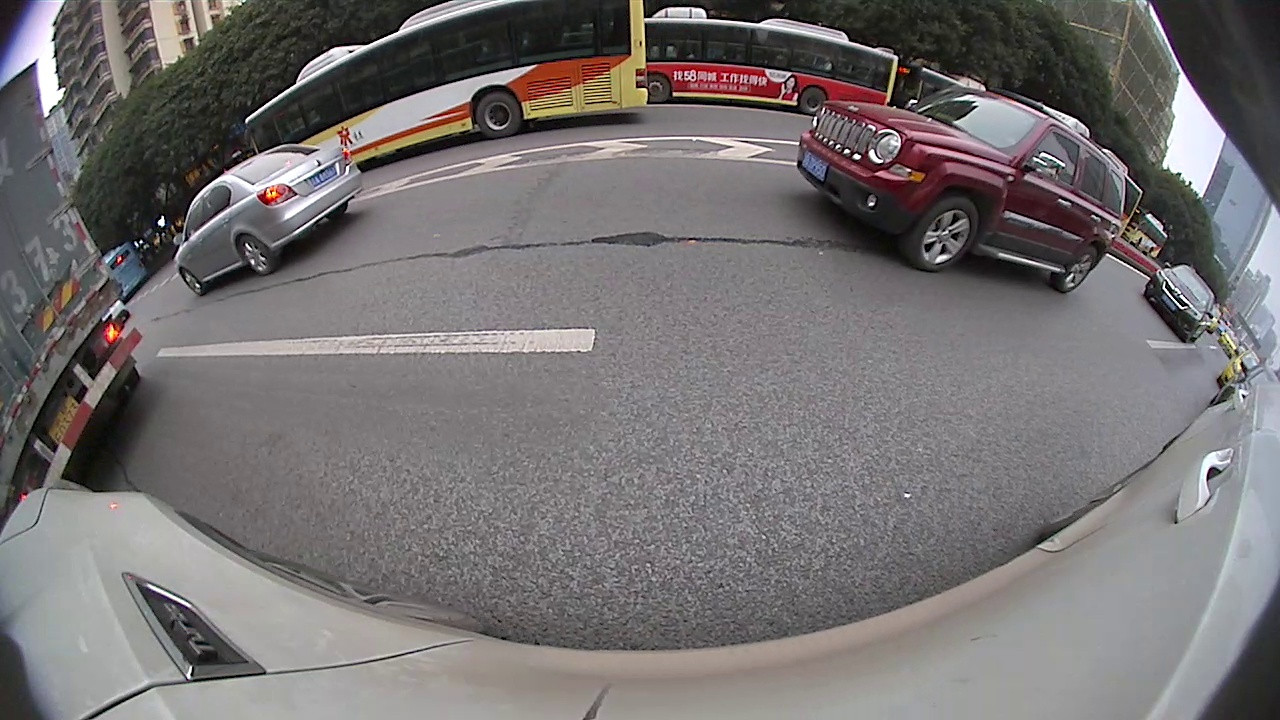bus: (243, 2, 648, 166), (643, 4, 900, 111), (101, 244, 146, 307), (1128, 204, 1171, 262)
car: (794, 84, 1129, 296), (174, 141, 366, 294), (1143, 262, 1219, 343)
front: (897, 193, 981, 273), (648, 73, 672, 105), (179, 264, 203, 294)
rear: (1049, 244, 1099, 295), (474, 89, 523, 140), (236, 233, 282, 277), (798, 86, 827, 116)
truck: (1, 59, 139, 524)
